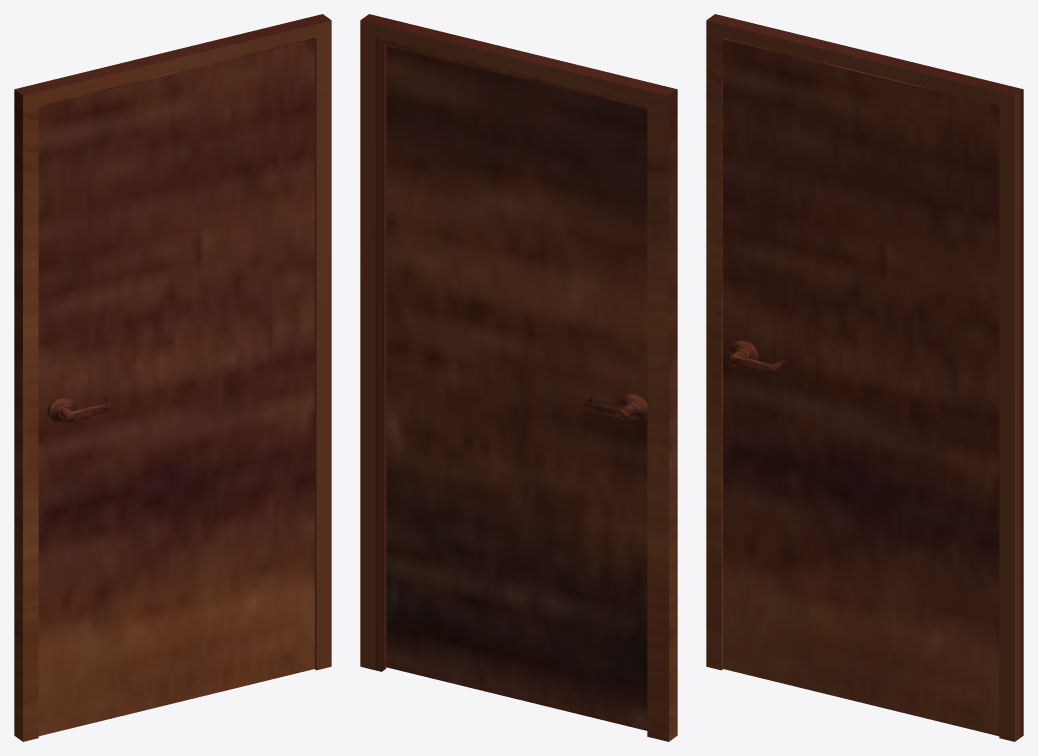
File: door_straight_panel.glb
The picture shows the model from 3 angles, left to right: view 1: azimuth 30°, elevation 25°; view 2: azimuth 150°, elevation 25°; view 3: azimuth 330°, elevation 25°; orthographic projection.
Parts seen in each view (by area): view 1: door_straight_panel; view 2: door_straight_panel; view 3: door_straight_panel.
Part boxes in pixels (box(x1,y1,x2,y2)): door_straight_panel: box(14, 14, 331, 741); door_straight_panel: box(360, 14, 677, 741); door_straight_panel: box(706, 14, 1023, 741).
Size of the model in its own units: 1 by 2 by 0.154.
Materials: 1 (1 with a texture image).
